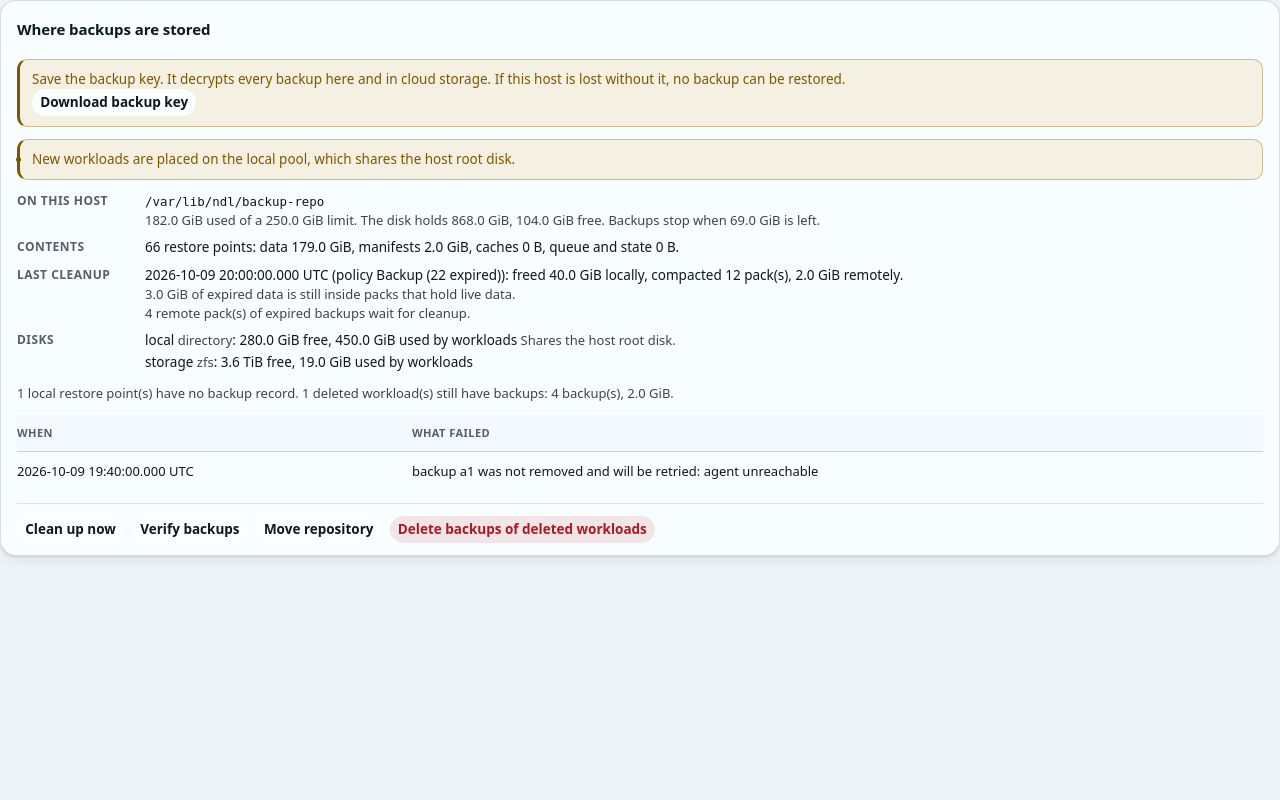
Test case: BackupStoragePanel › asks for the backup key until it is exported, and verifies on request
Expected: the text "Save the backup key" is shown, 32,70 -> 846,88
Click the button "Download backup key" at (114, 103), box 32,89 -> 196,116
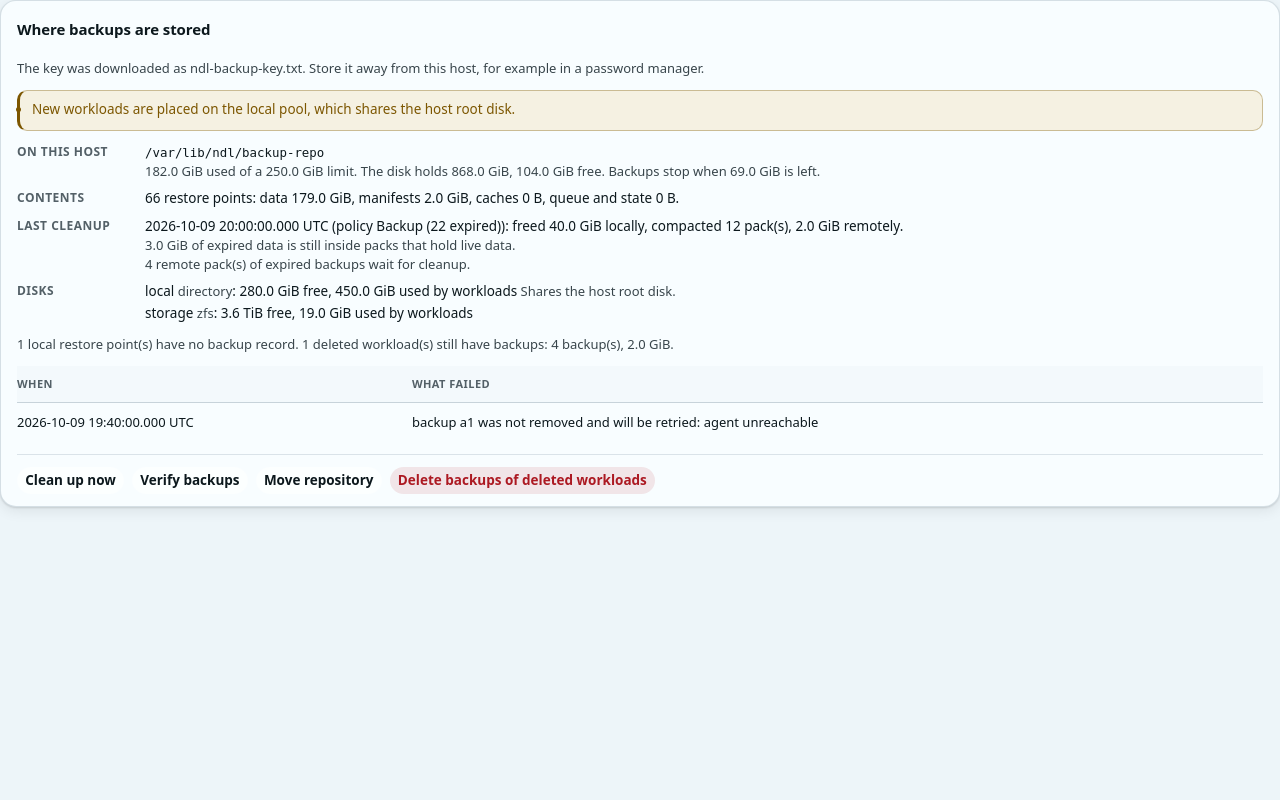
Now the text "downloaded as ndl-backup-key.txt" is shown, box 17,59 -> 704,77
Click the button "Verify backups" at (190, 481), box 132,467 -> 248,494
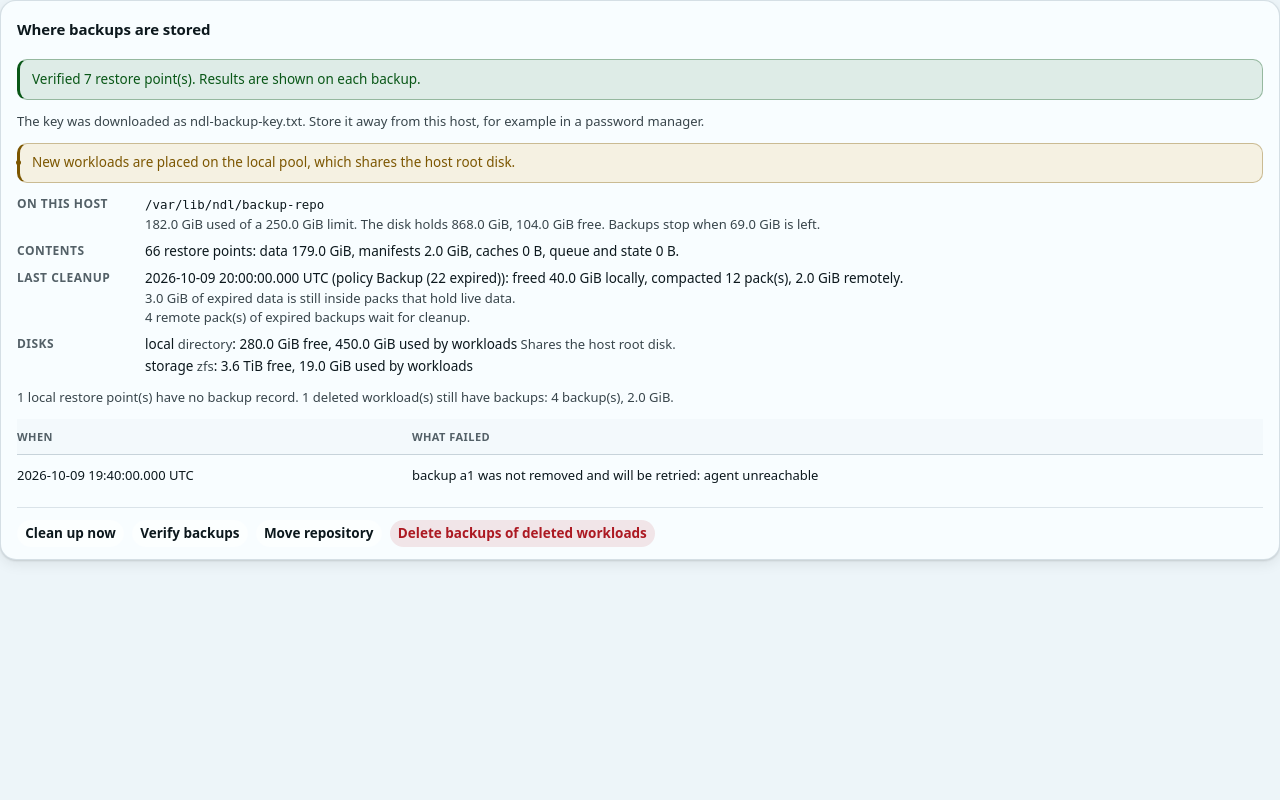
Now the text "Verified 7 restore point(s). Results are shown on each backup." is shown, box 17,59 -> 1263,100
